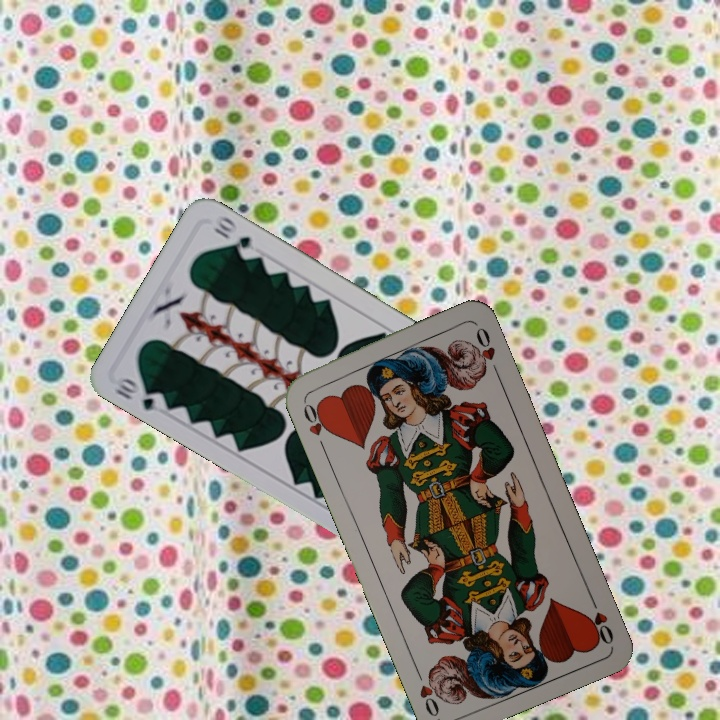G10: (109, 374, 169, 415)
HO: (299, 395, 334, 452), (582, 590, 616, 647)
